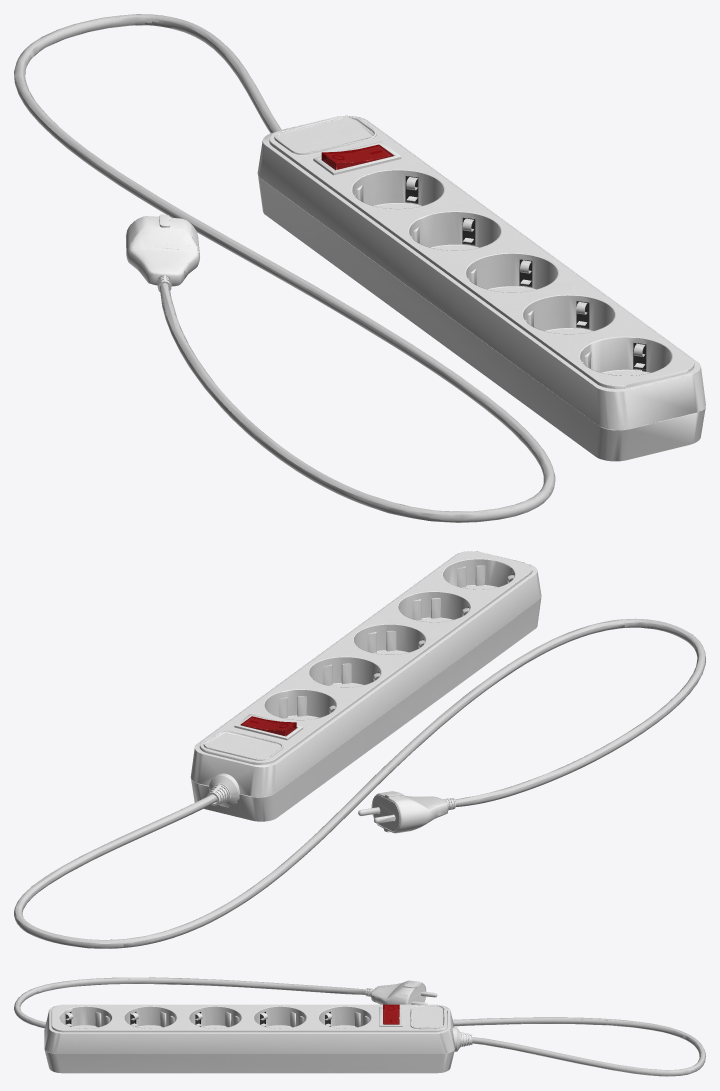
File: steckdosenleiste.glb
3 renders of one model, top to bottom at view 1: azimuth 30°, elevation 25°; view 2: azimuth 150°, elevation 25°; view 3: azimuth 270°, elevation 25°, orthographic. The views are drawn at different scales.
Size of the model in its own units: 0.3484 by 0.0799 by 1.
Materials: 6 (3 with a texture image).
